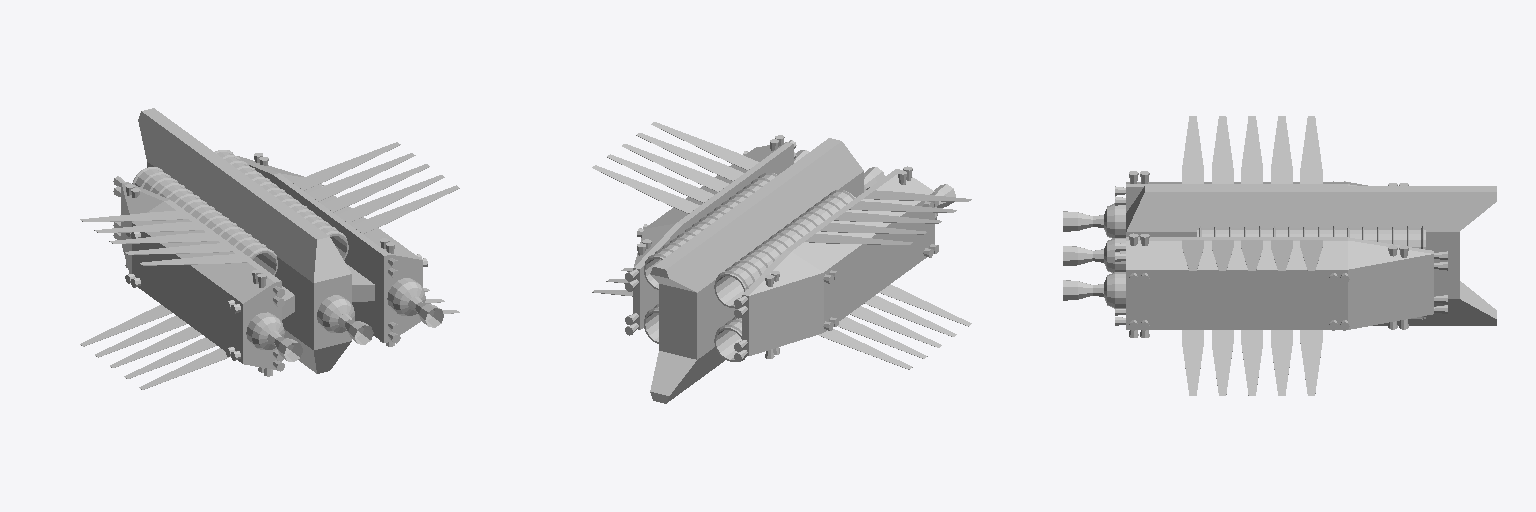
File: Missile Carrier.obj
3 views of the same model, side by side, from view 1: azimuth 30°, elevation 25°; view 2: azimuth 150°, elevation 25°; view 3: azimuth 270°, elevation 25° (orthographic).
Visible parts, largest first — view 1: Cube, Cube.002, Cube.001, Radiators.003, Radiators.001, Radiators, Cylinder.002, Cylinder, Fuel_Tank.002, Fuel_Tank.003, Fuel_Tank.001, Thruster.001 (+2 smaller); view 2: Cube, Cube.002, Radiators.003, Cube.001, Radiators.001, Cylinder.002, Radiators, Cylinder, Cylinder.003; view 3: Cube.001, Cube, Radiators, Radiators.002, Cylinder, Radiators.003, Cube.002, Fuel_Tank.002, Fuel_Tank.001, Thruster.001, Thruster.002, Thruster.003.
Part boxes in pixels (x1,y1,x2,y2): Cube: (138,108,351,373); Cube.002: (121,182,294,369); Cube.001: (237,156,422,342); Radiators.003: (293,142,459,233); Radiators.001: (80,305,230,389); Radiators: (80,211,246,265); Cylinder.002: (132,167,277,275); Cylinder: (215,150,348,259); Fuel_Tank.002: (387,278,425,315); Fuel_Tank.003: (317,295,354,332); Fuel_Tank.001: (246,312,284,349); Thruster.001: (267,331,302,361); Cube: (650,138,863,403); Cube.002: (742,169,934,355); Radiators.003: (592,122,758,213); Cube.001: (633,142,793,329); Radiators.001: (819,284,971,369); Cylinder.002: (714,190,855,308); Radiators: (805,190,971,244); Cylinder: (644,173,777,289); Cylinder.003: (714,317,746,361); Cube.001: (1126,237,1433,329); Cube: (1126,186,1496,325); Radiators: (1182,116,1322,183); Radiators.002: (1182,330,1322,395); Cylinder: (1197,226,1425,249); Radiators.003: (1182,240,1322,270); Cube.002: (1126,182,1367,212); Fuel_Tank.002: (1104,272,1125,308); Fuel_Tank.001: (1104,203,1125,238); Thruster.001: (1063,211,1103,231); Thruster.002: (1063,280,1103,300); Thruster.003: (1063,246,1103,265).
Bounding box in the file's own units: 99.05 × 40 × 117.